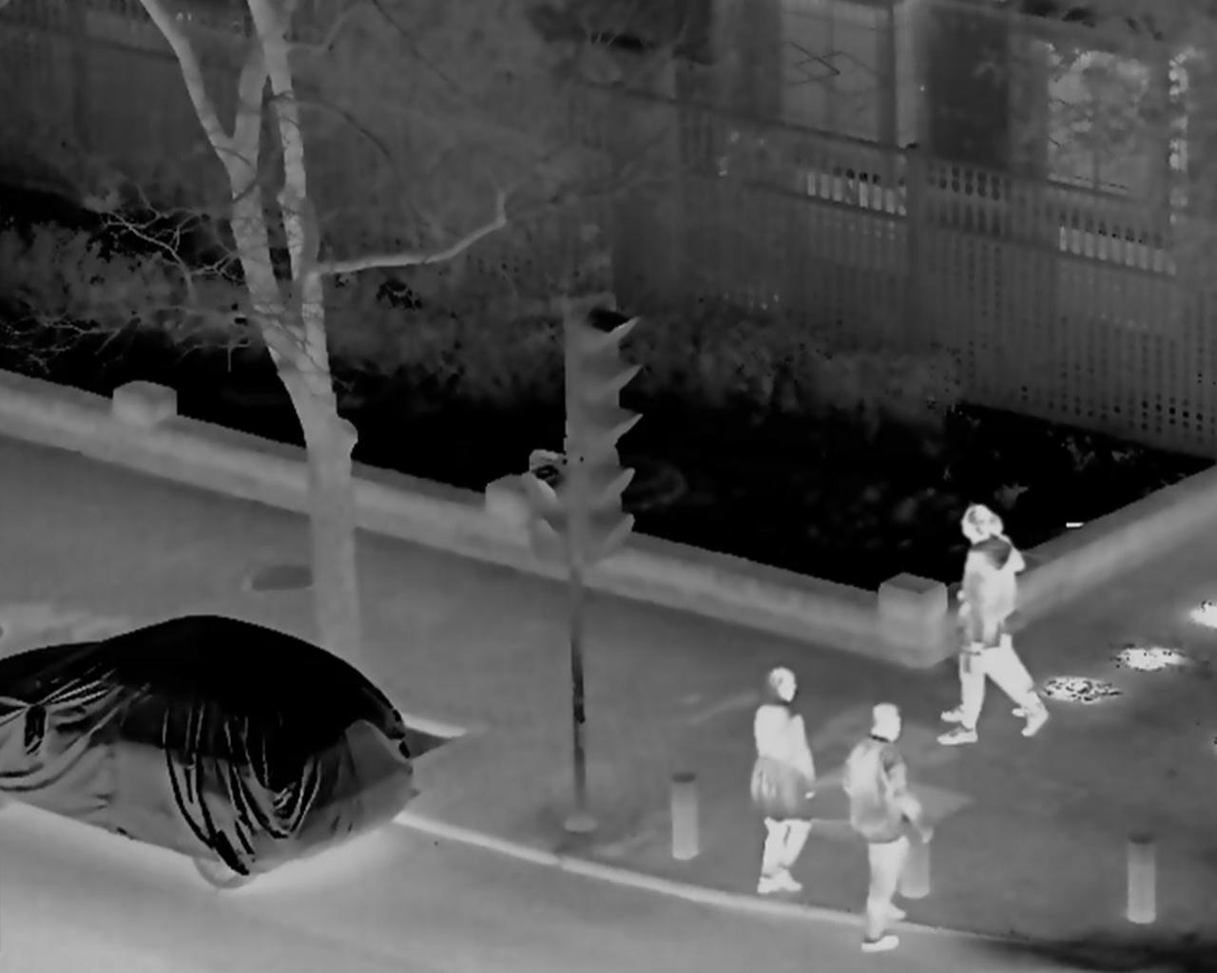person: (935, 502, 1051, 746), (851, 707, 928, 959), (750, 667, 809, 901)
